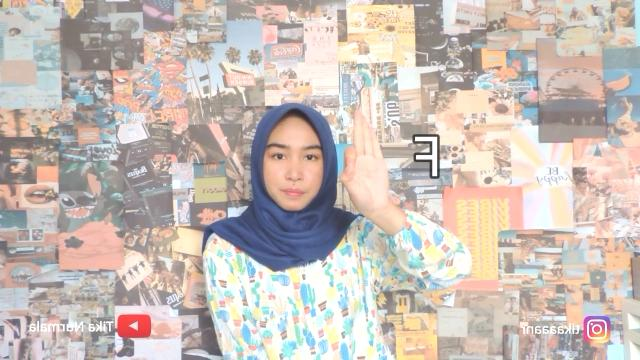F: (338, 109, 388, 209)
